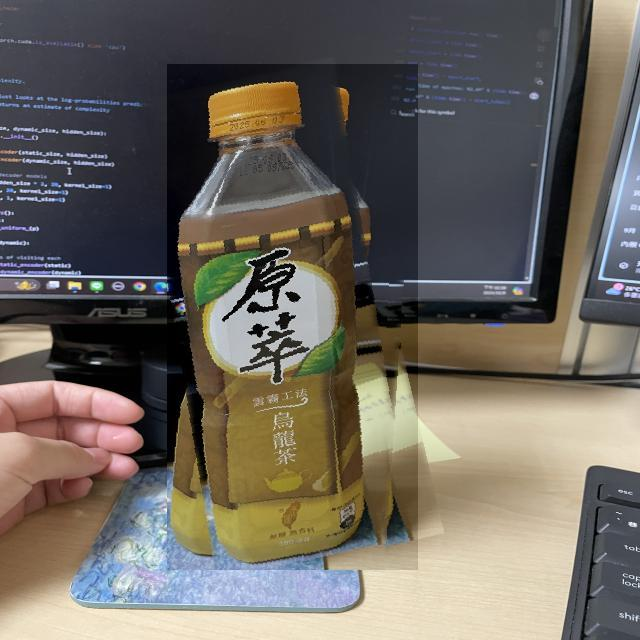RiYue_BlackTea: (167, 64, 418, 570)
